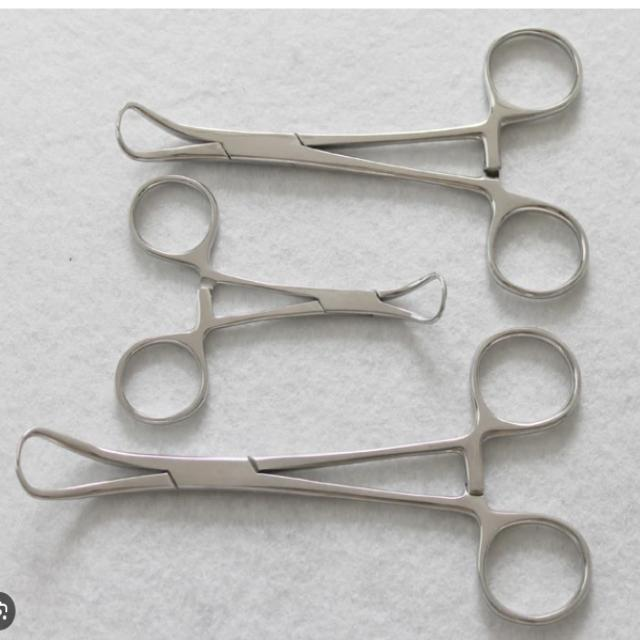Backhaus Towel Clamp: (11, 318, 596, 632), (115, 23, 589, 298), (112, 170, 450, 432)
